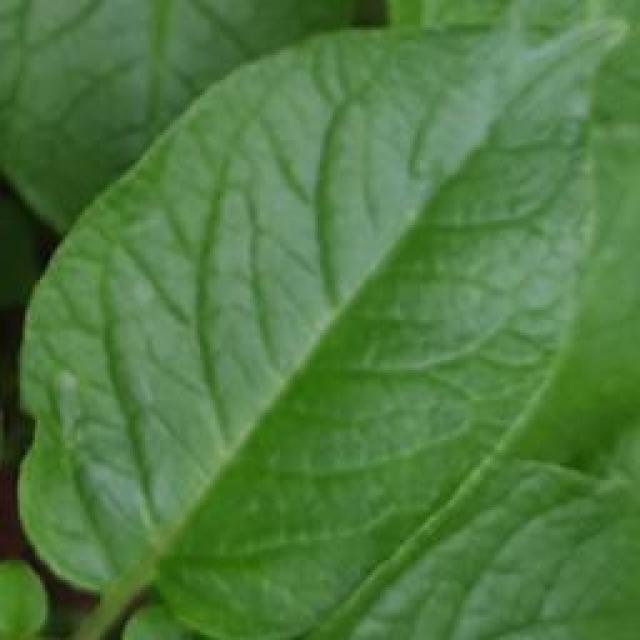healthy: (8, 0, 638, 638)
